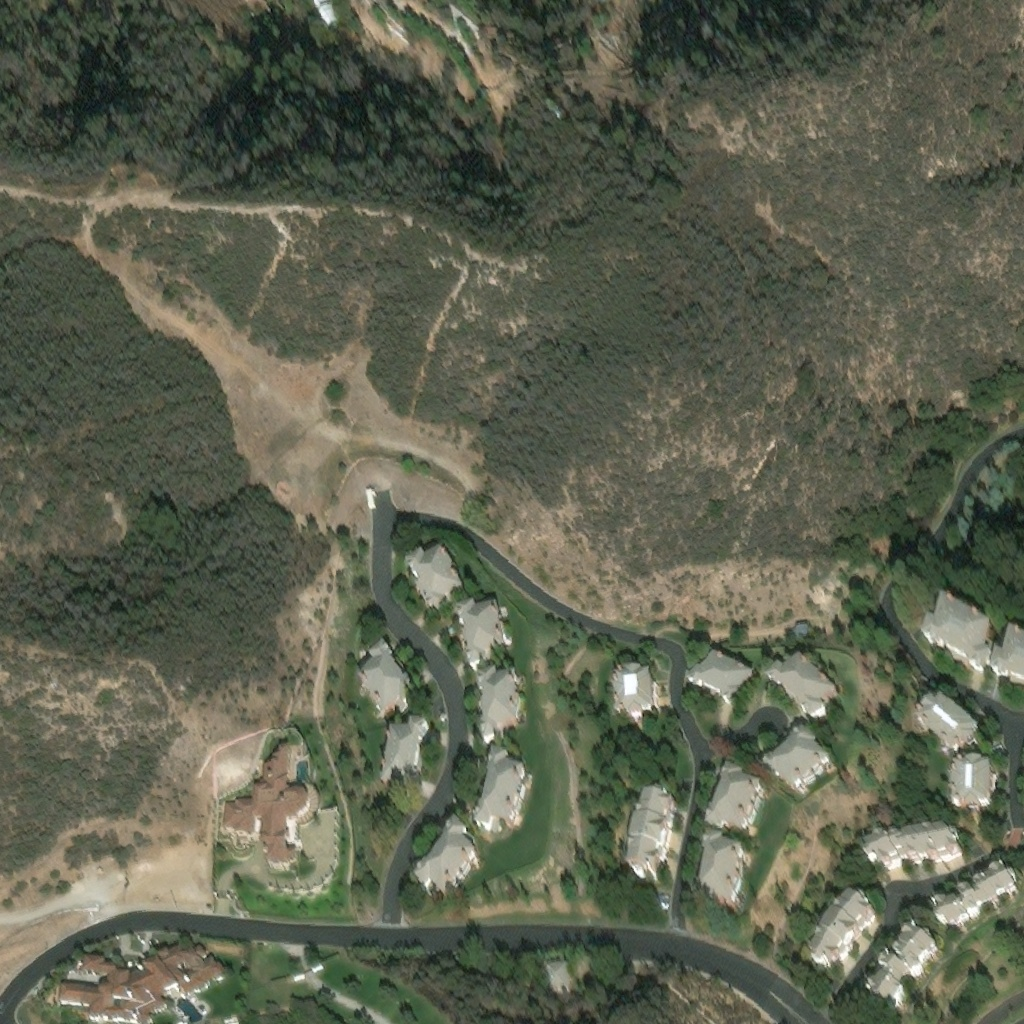0 no-damage: (64, 947, 228, 1023), (223, 745, 310, 870), (937, 863, 1020, 937), (871, 939, 944, 1023), (810, 904, 883, 981), (867, 819, 960, 879), (410, 826, 484, 899), (356, 643, 425, 719), (770, 664, 843, 735), (916, 590, 990, 659), (406, 556, 474, 630), (627, 805, 685, 891), (769, 743, 839, 814), (476, 768, 538, 845), (691, 661, 759, 723), (700, 851, 757, 924), (910, 682, 977, 744), (713, 787, 774, 855), (461, 617, 515, 689), (482, 689, 533, 763), (377, 726, 435, 791), (619, 679, 661, 738), (983, 619, 1023, 677), (947, 748, 989, 800), (542, 959, 567, 984), (794, 626, 810, 641), (366, 497, 378, 513)
4 un-classified: (441, 8, 482, 41), (314, 0, 336, 21), (309, 0, 324, 7)
